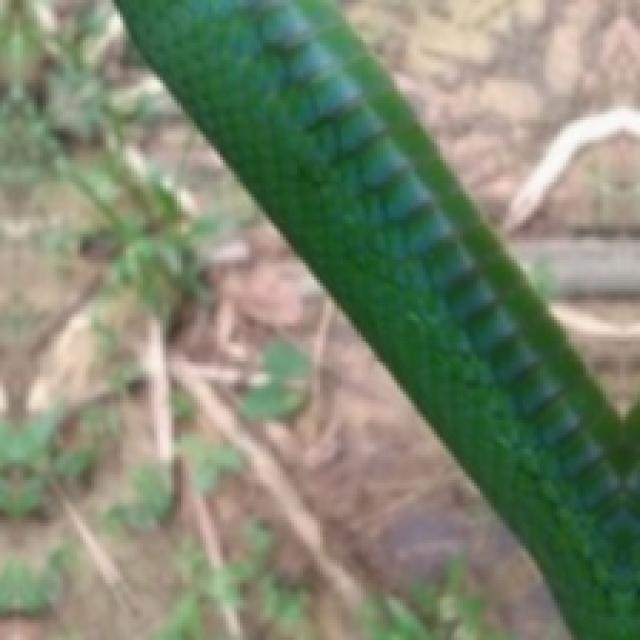red-tailed green ratsnake: (117, 0, 637, 637)
